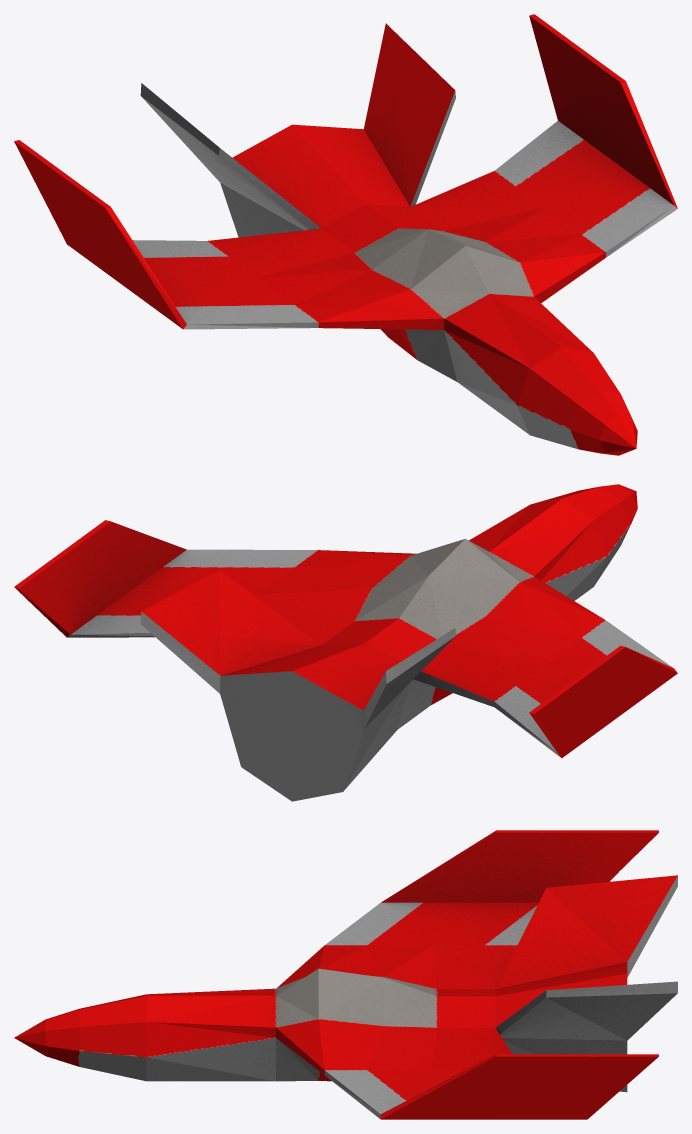
Rendered from jet.obj.
3 renders of one model, top to bottom at view 1: azimuth 30°, elevation 25°; view 2: azimuth 150°, elevation 25°; view 3: azimuth 270°, elevation 25°, orthographic. The views are drawn at different scales.
Visible parts, largest first — view 1: Circle; view 2: Circle; view 3: Circle.
Boxes of the visible parts, left/top/right/bottom form: Circle: left=14, top=14, right=677, bottom=455; Circle: left=14, top=484, right=677, bottom=801; Circle: left=14, top=830, right=677, bottom=1119.
Bounding box in the file's own units: 11.55 × 3.84 × 14.33.
Materials: 1 (1 with a texture image).
